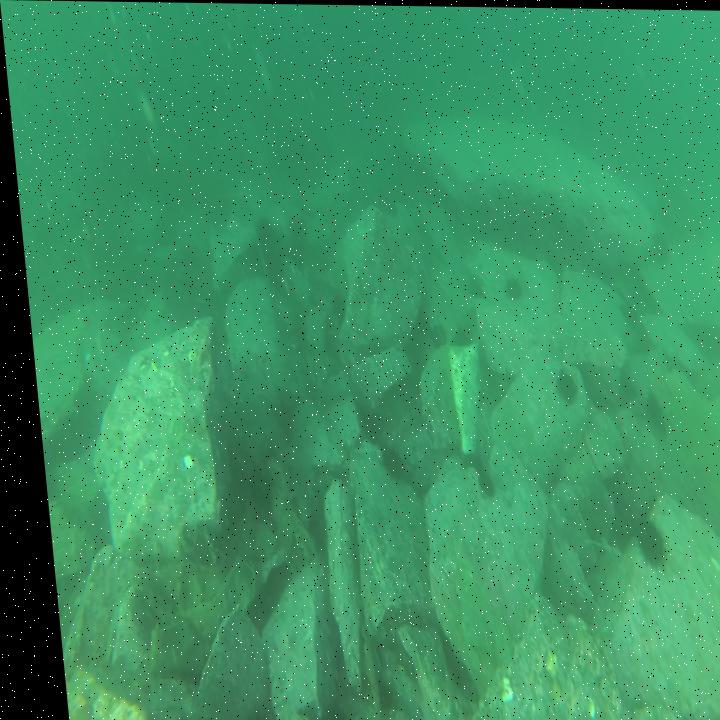echinus: (626, 518, 659, 568), (546, 366, 574, 406), (373, 446, 400, 485), (251, 215, 272, 249), (499, 272, 519, 301)
